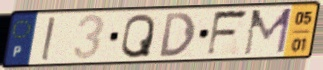3: (71, 12, 109, 62)
D: (159, 11, 198, 59)
F: (204, 8, 251, 59)
I: (39, 15, 57, 62)
M: (241, 6, 294, 58)
Q: (119, 12, 157, 60)
